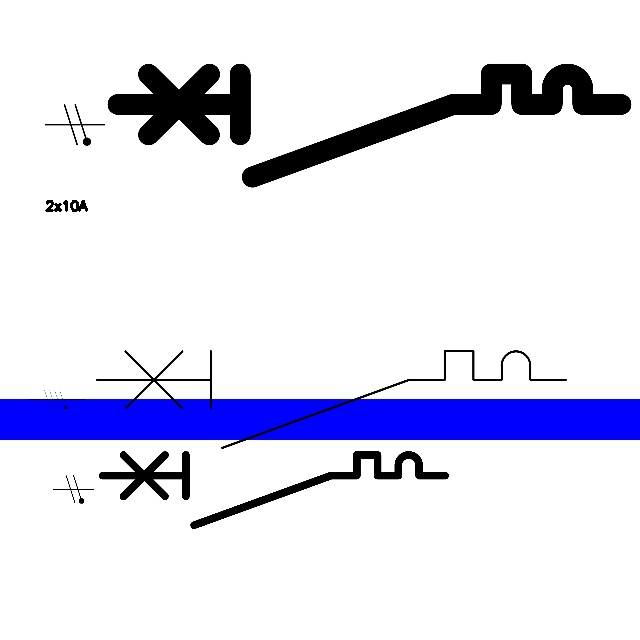interruptor_termomagnetico: (104, 61, 633, 190), (84, 339, 577, 459), (93, 446, 453, 534)
